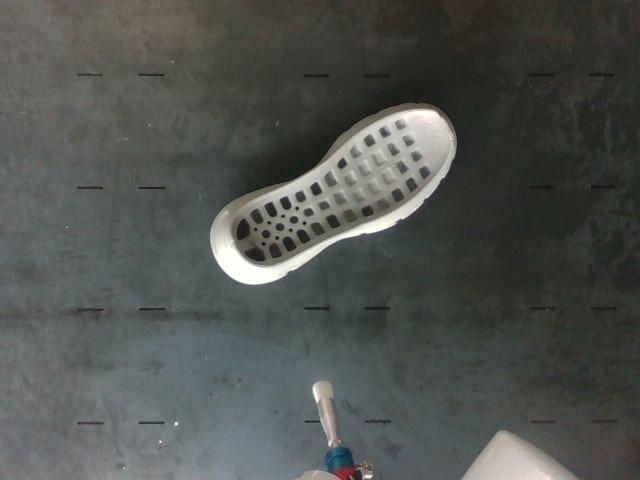shoes: (231, 110, 453, 266)
